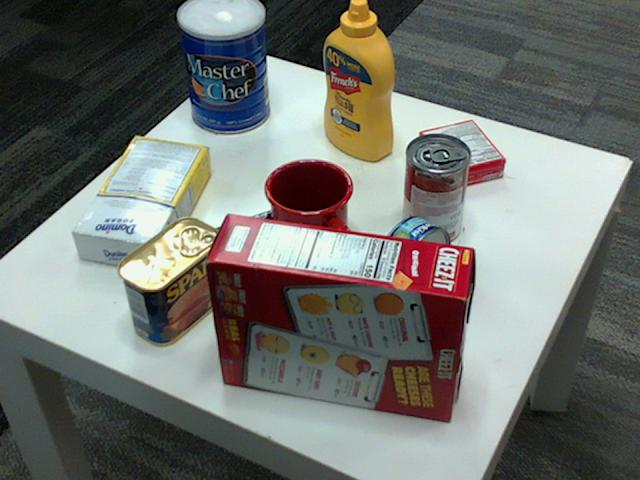cracker_box: (204, 213, 471, 419)
gelatin_box: (420, 119, 507, 187)
large_marker: (197, 201, 302, 252)
master_chef_can: (176, 0, 268, 133)
mug: (264, 155, 354, 263)
mustard_bottle: (323, 0, 393, 160)
potted_meat_can: (118, 216, 222, 345)
sugar_box: (72, 133, 211, 267)
tomato_soup_can: (401, 133, 469, 244)
tuna_fish_can: (372, 215, 450, 303)
